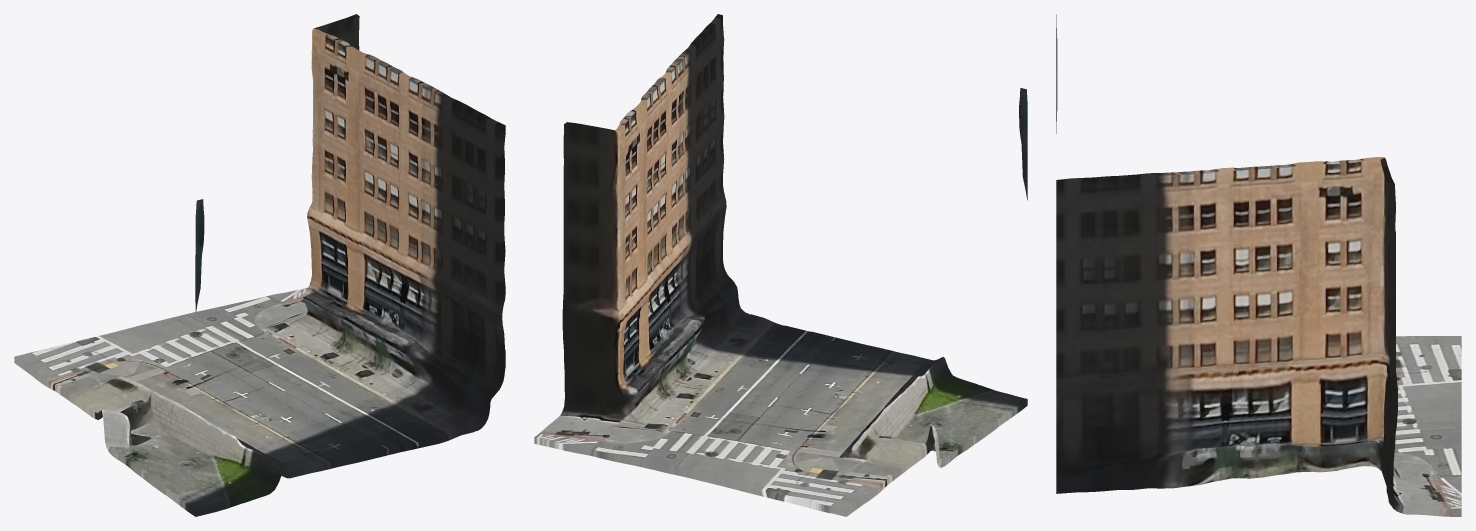
The model's file is z20-167770-405236-h0-yup-uvflip-v3-world.glb.
3 renders of one model, left to right at view 1: azimuth 30°, elevation 25°; view 2: azimuth 150°, elevation 25°; view 3: azimuth 270°, elevation 25°, orthographic. The views are drawn at different scales.
Bounding box in the file's own units: 30.16 × 29.2 × 30.32.
1 material, 1 textured.
